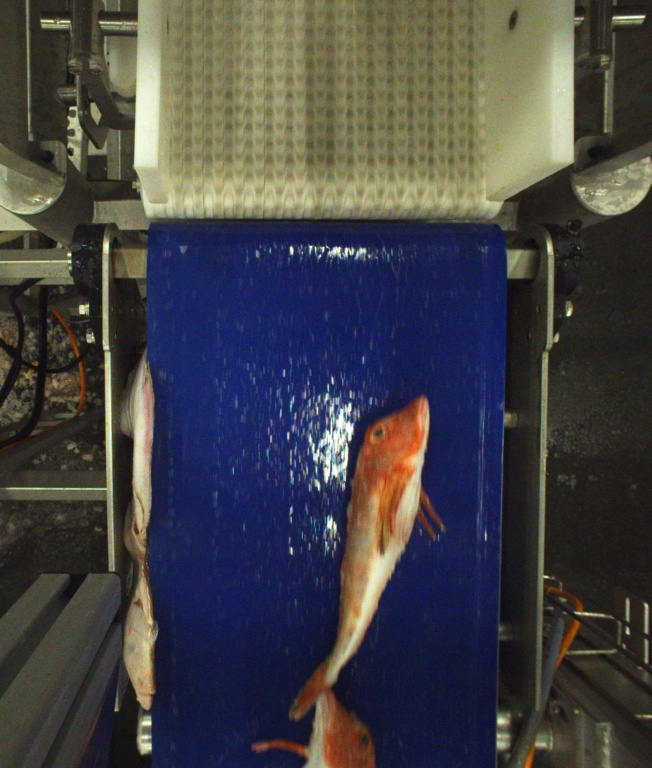GUU: (290, 396, 446, 728)
